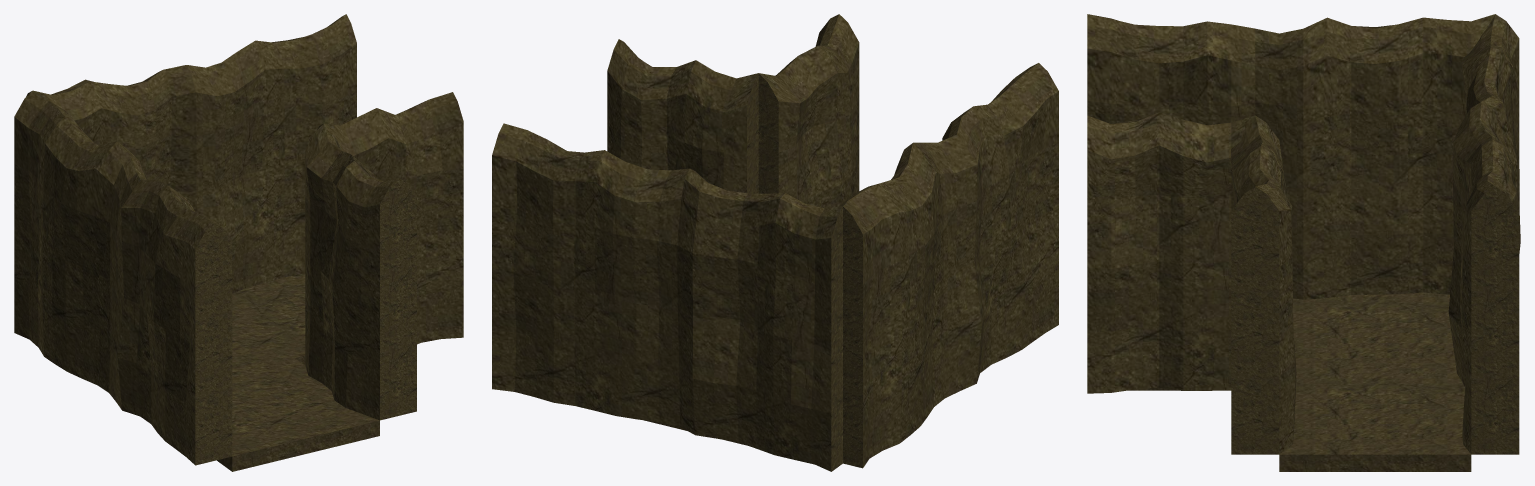
The model's file is cave_corner_01_limestone.glb.
The picture shows the model from 3 angles, left to right: view 1: azimuth 30°, elevation 25°; view 2: azimuth 150°, elevation 25°; view 3: azimuth 270°, elevation 25°; orthographic projection. The views are drawn at different scales.
Parts seen in each view (by area): view 1: cave_corner_01_limestone; view 2: cave_corner_01_limestone; view 3: cave_corner_01_limestone.
Part boxes in pixels (left/top/right/bottom): cave_corner_01_limestone: left=14, top=14, right=463, bottom=471; cave_corner_01_limestone: left=492, top=14, right=1058, bottom=471; cave_corner_01_limestone: left=1087, top=14, right=1520, bottom=471.
Size of the model in its own units: 4.58 by 3.3 by 4.51.
2 materials, 2 textured.
